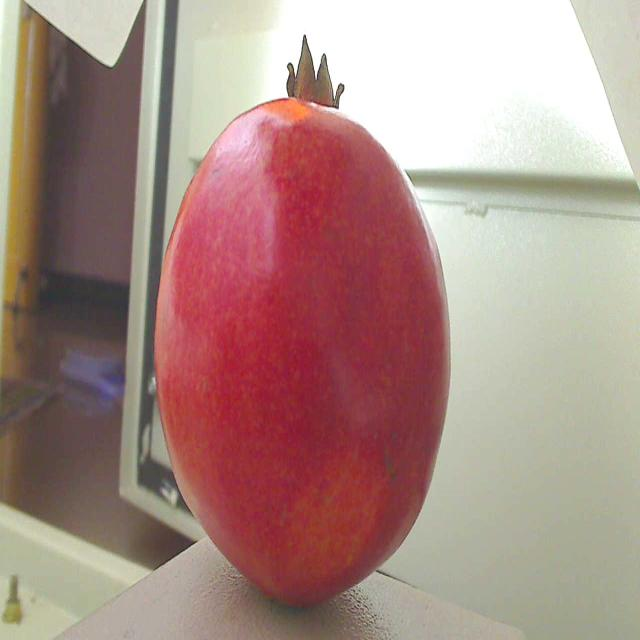pomegranate: (148, 51, 459, 605)
